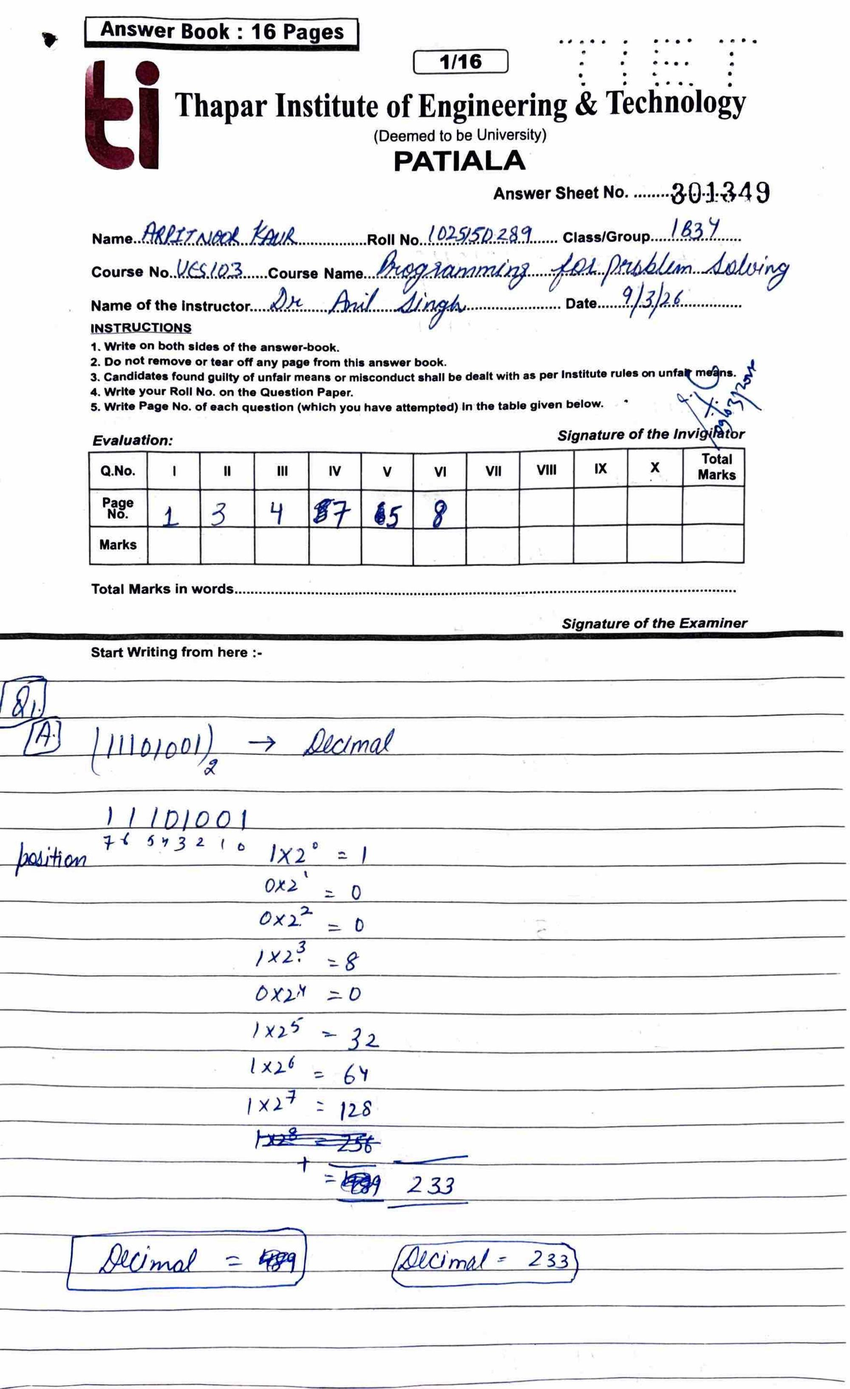cuttings: (252, 1124, 382, 1157), (339, 1171, 385, 1196), (258, 1248, 300, 1274)
